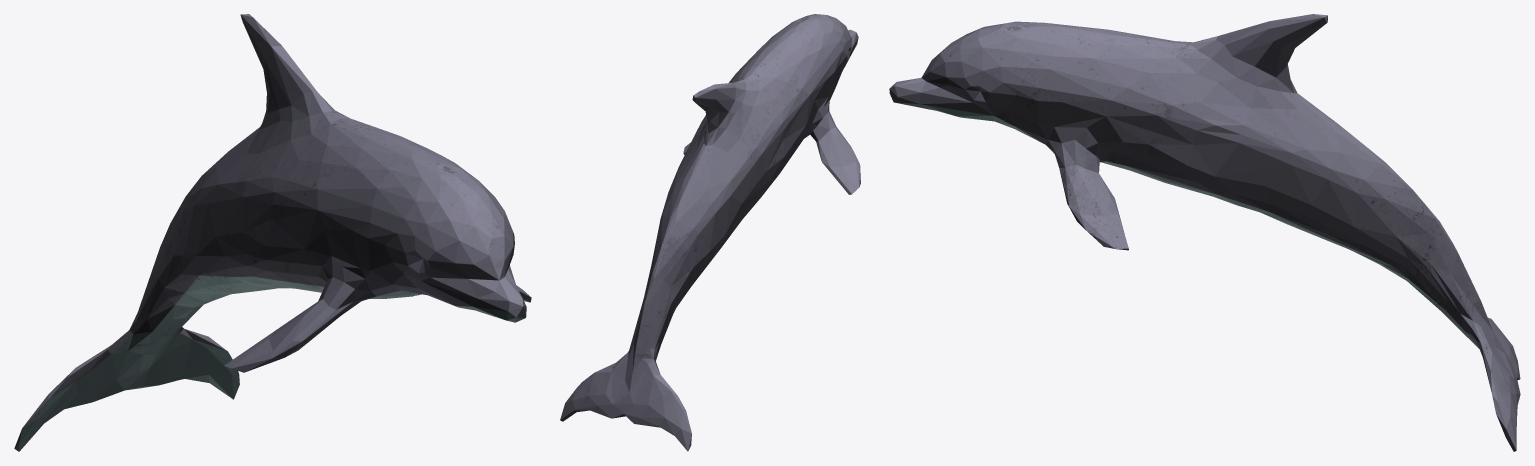
File: Dolphin - low poly.glb
The picture shows the model from 3 angles, left to right: view 1: azimuth 30°, elevation 25°; view 2: azimuth 150°, elevation 25°; view 3: azimuth 270°, elevation 25°; orthographic projection. The views are drawn at different scales.
Parts seen in each view (by area): view 1: dolphin.1; view 2: dolphin.1; view 3: dolphin.1.
Part boxes in pixels (left/top/right/bottom): dolphin.1: left=14, top=14, right=531, bottom=451; dolphin.1: left=560, top=14, right=860, bottom=451; dolphin.1: left=889, top=14, right=1520, bottom=451.
Size of the model in its own units: 1.25 by 2.01 by 2.89.
Materials: 1 (1 with a texture image).
